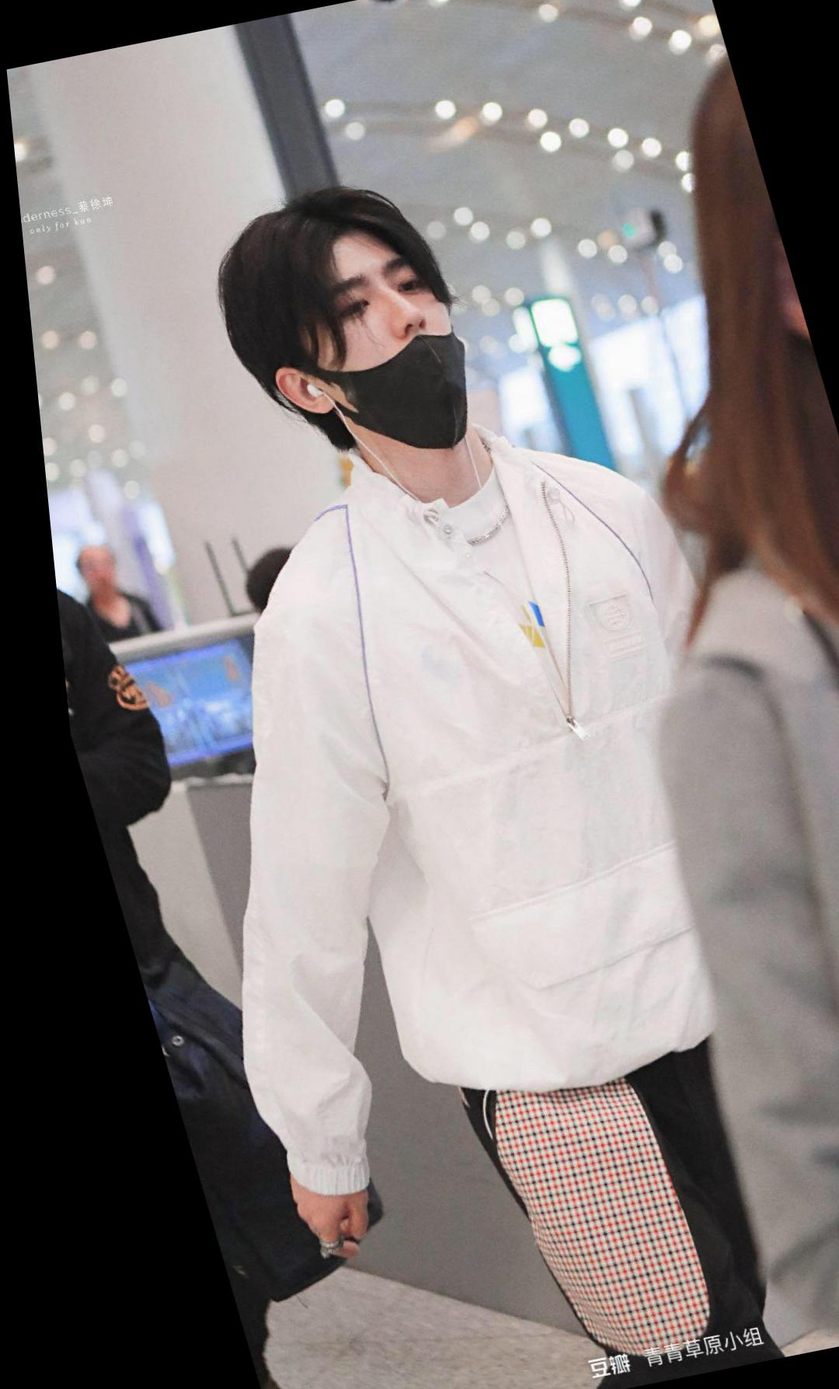WRONG: (291, 238, 482, 466)
